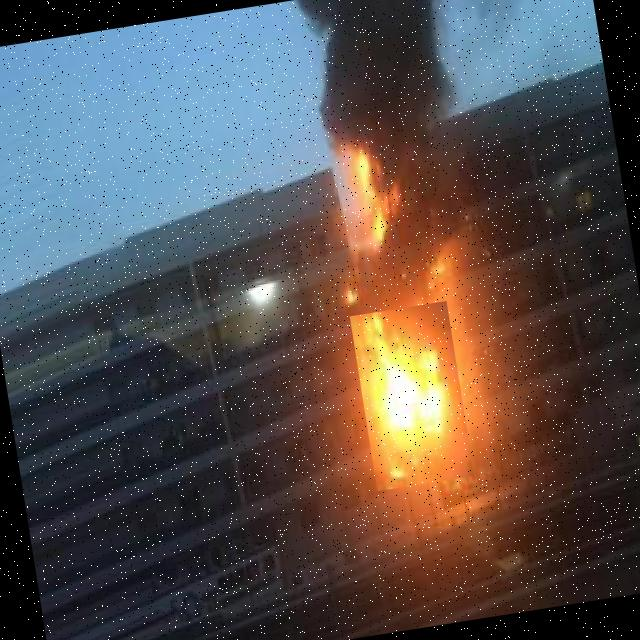fire: (350, 301, 474, 491)
